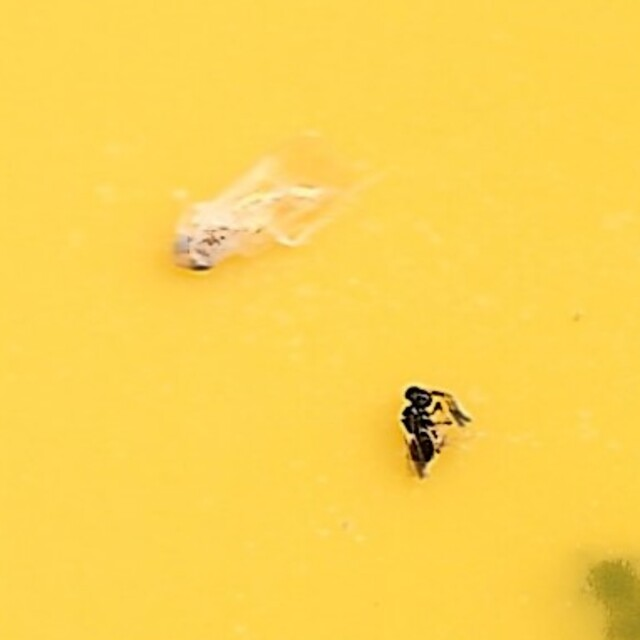Hemiptera: (168, 156, 340, 272)
Hymenoptera: (399, 383, 472, 484)
